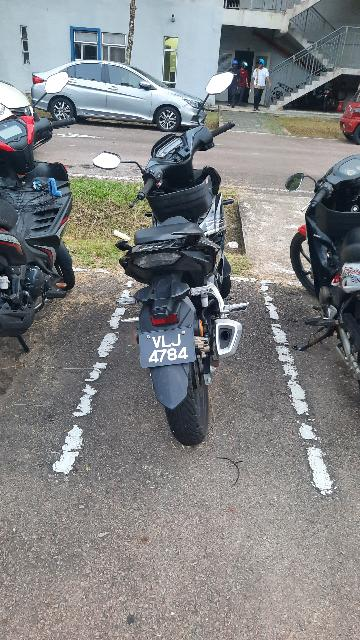License_Plate: (137, 325, 199, 369)
car: (43, 51, 214, 132)
motorcycle: (88, 70, 262, 446), (2, 75, 85, 367), (299, 135, 360, 407)
